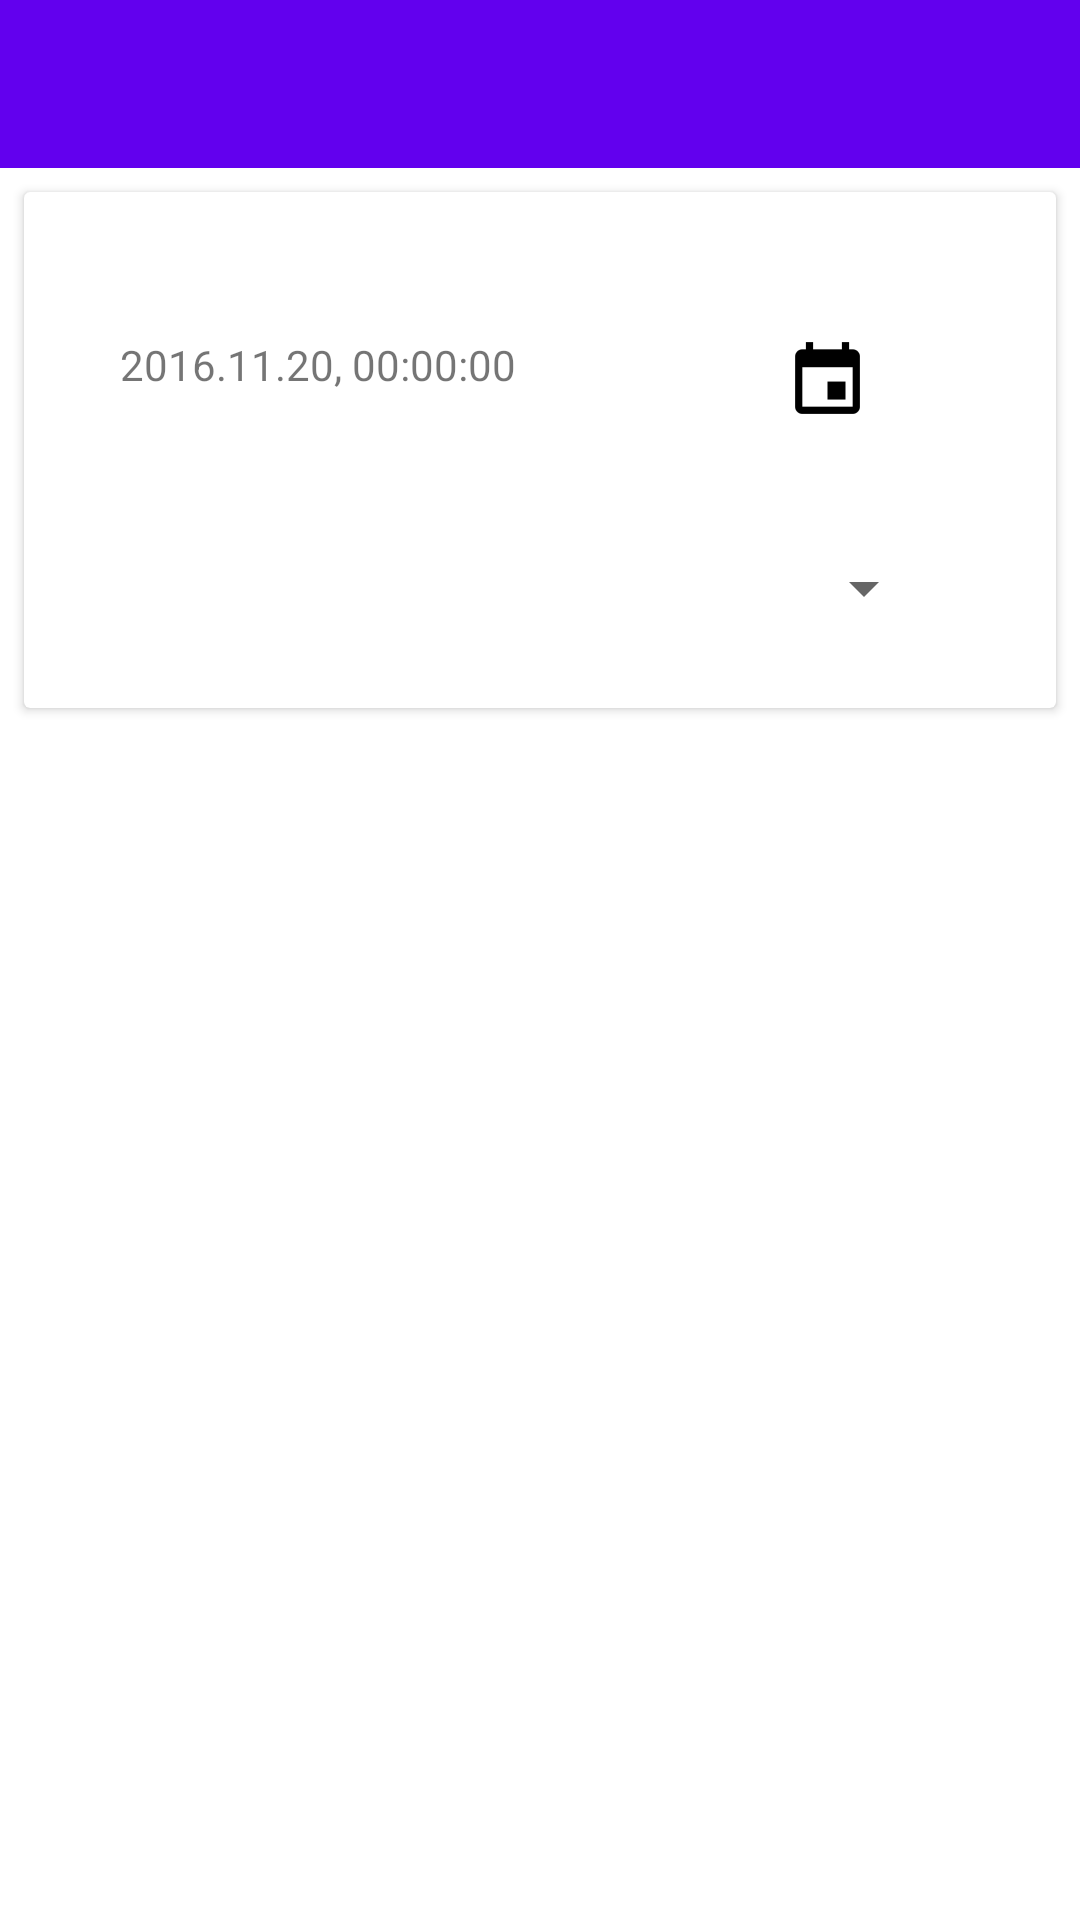

Icon click points for this 1080*1920 phone screenshot, format point (x, y):
editor insert invitation: point (827, 378)
